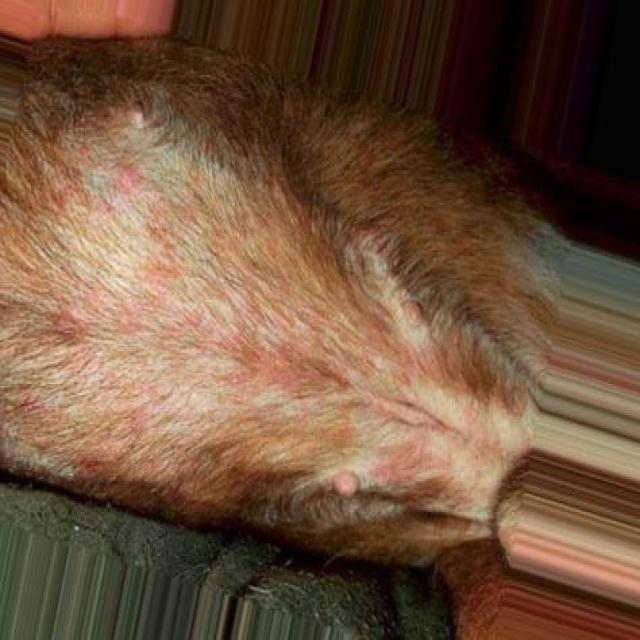di ung bo chet: (54, 121, 523, 577)
